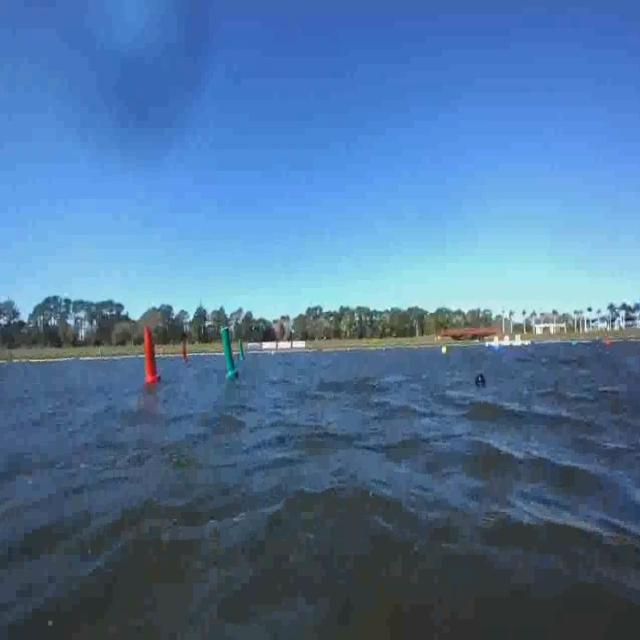black-buoy: (476, 372, 488, 390)
green-column-buoy: (220, 327, 238, 378), (239, 340, 246, 360)
red-column-buoy: (143, 324, 160, 384), (184, 341, 191, 363)
yellow-buoy: (443, 344, 450, 358)
